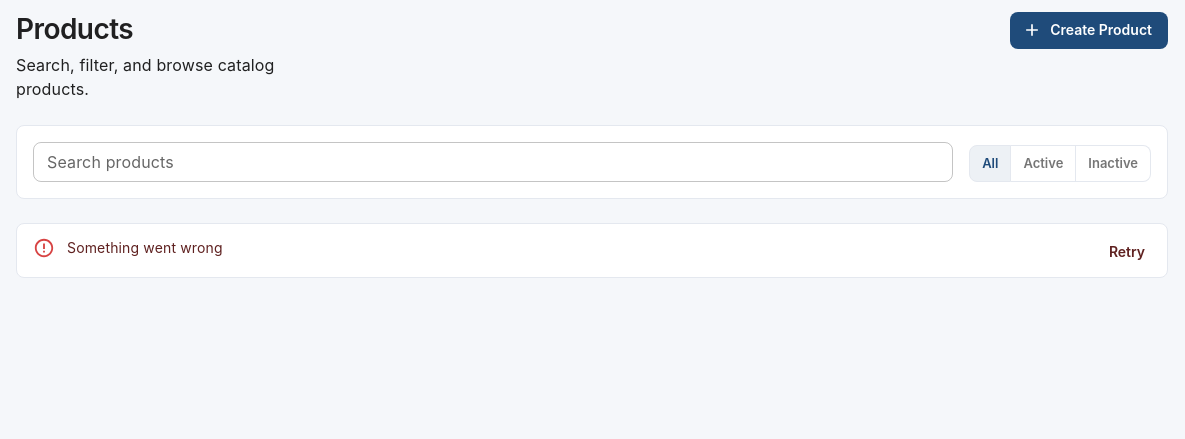
Scenario: ProductsPage › shows a safe error and retries the request
Expected: the text "Something went wrong" is shown, [67,239,223,256]
Click the button "Retry".
click(1127, 252)  # box [1095,234,1159,270]
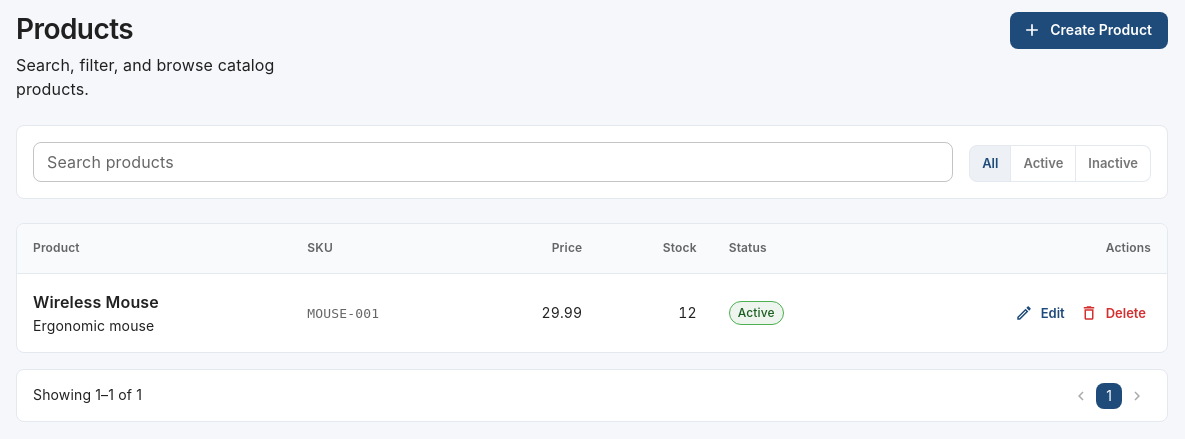
Expected: the text "Wireless Mouse" is shown, [33,292,159,312]
